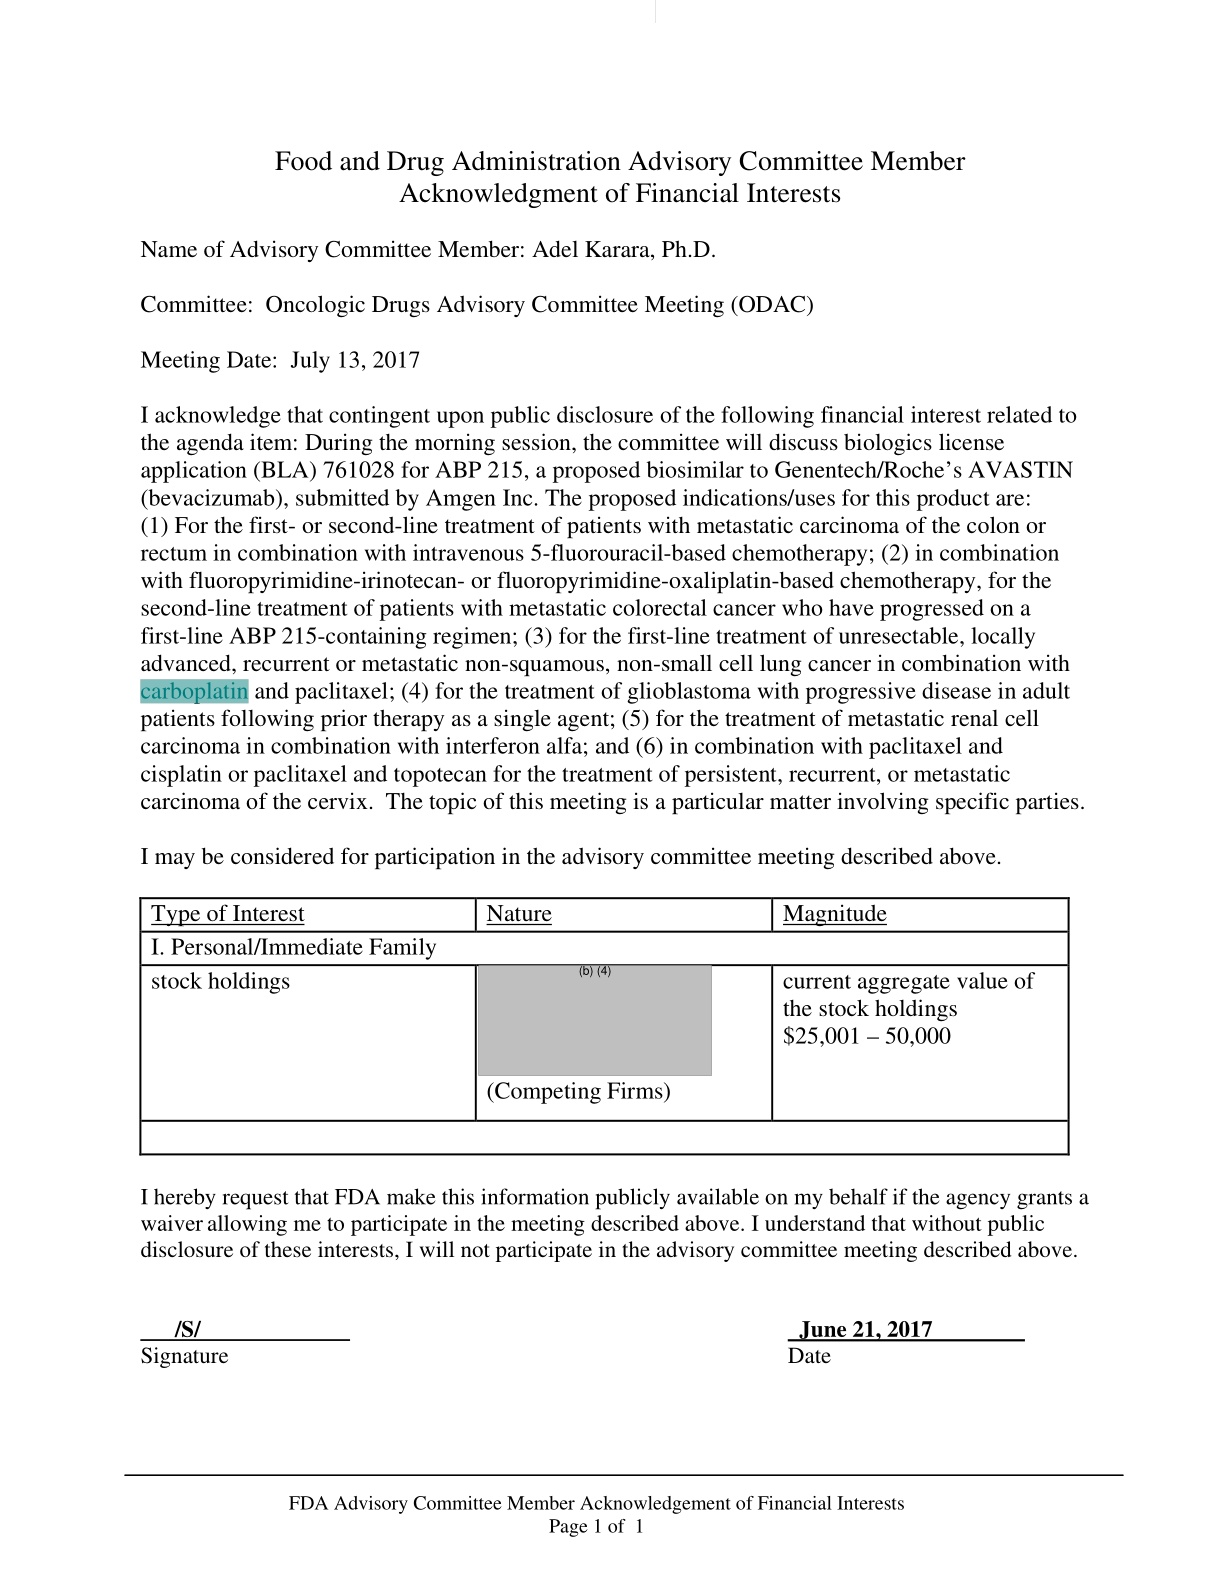merged_cells: (138, 895, 1071, 1156)
